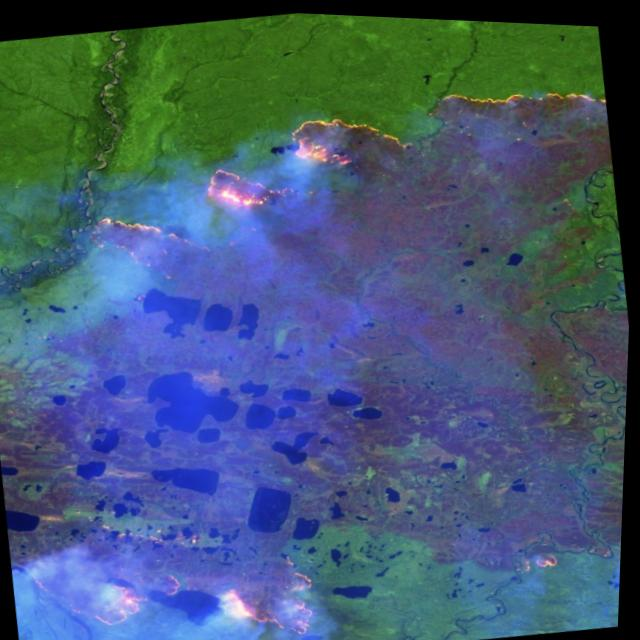fire: (5, 475, 335, 640), (60, 180, 216, 304), (278, 96, 416, 184), (425, 63, 606, 127), (506, 514, 626, 588), (193, 145, 304, 222)
